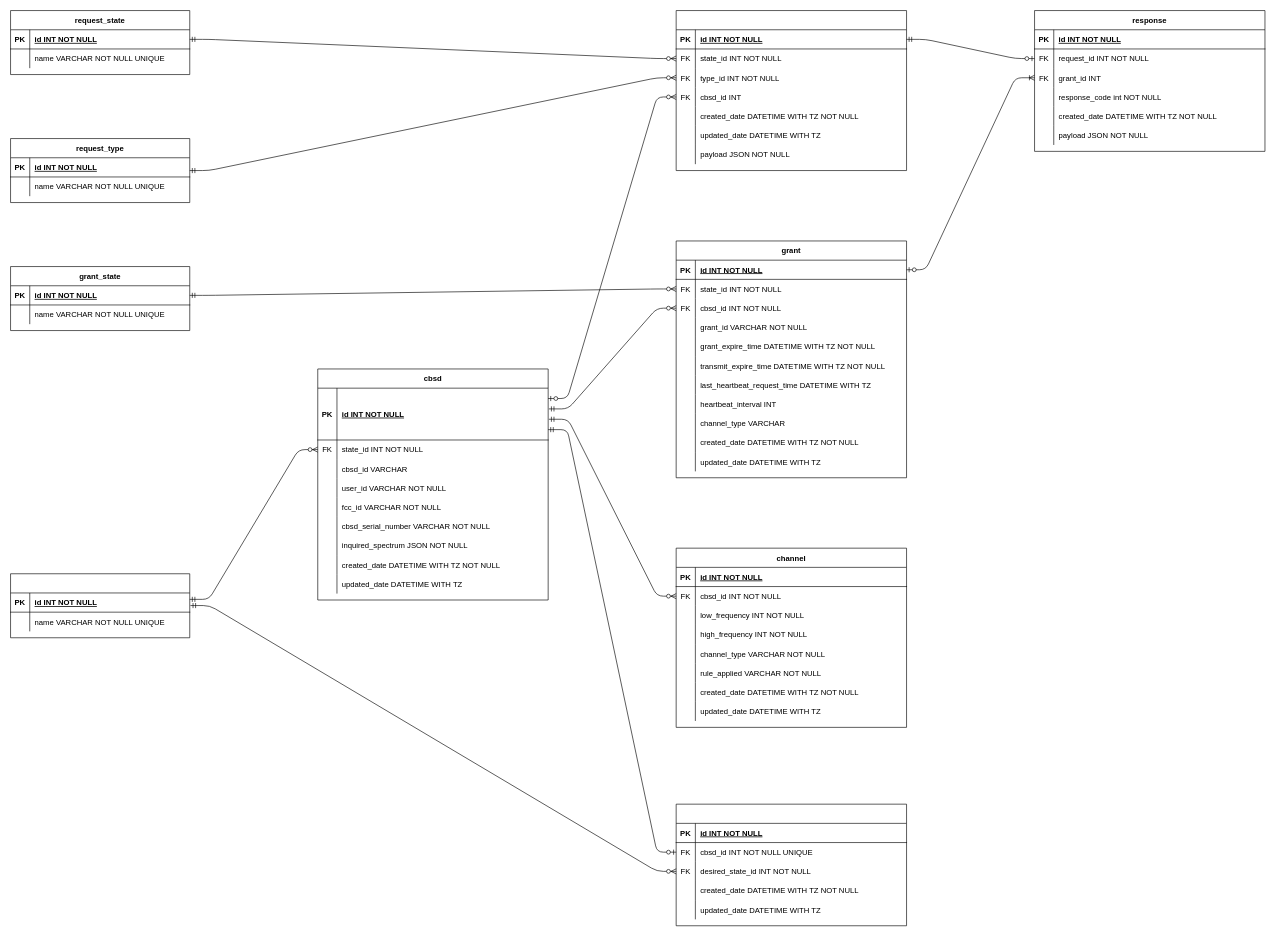
The diagram is 1276 pixels wide and 936 high, and some of its shapes have lost their labels. Each missing label, with the box of its shape:
active_mode_config: (676, 804, 907, 926)
cbsd_state: (10, 573, 190, 638)
request: (676, 10, 907, 171)
